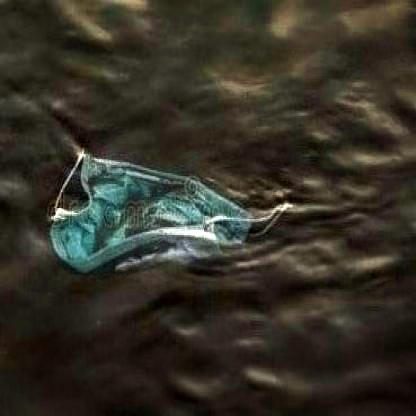Mask: (45, 152, 292, 278)
